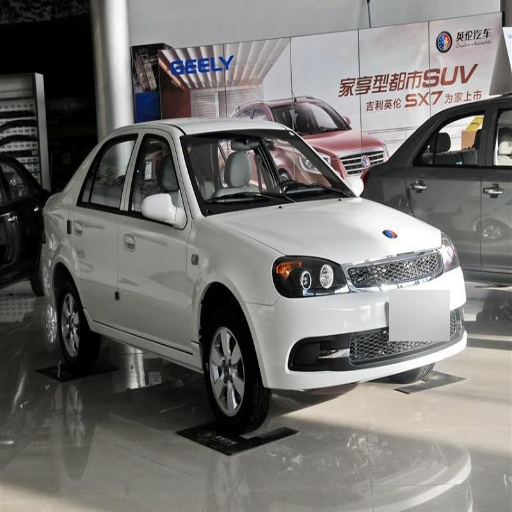front_bumper: (250, 251, 462, 388)
front_left_light: (403, 243, 456, 280)
front_right_door: (120, 132, 193, 348)
front_right_light: (274, 257, 338, 297)
